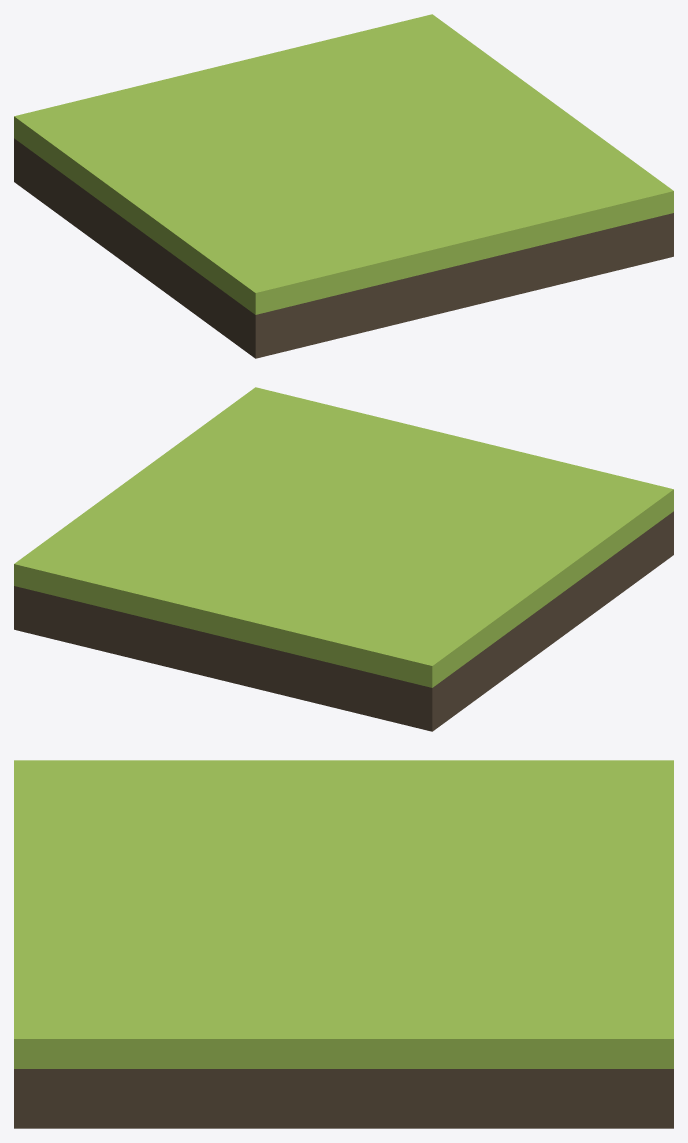
The model's file is SM_Mod_Ground_Meadow.fbx.
3 renders of one model, top to bottom at view 1: azimuth 30°, elevation 25°; view 2: azimuth 150°, elevation 25°; view 3: azimuth 270°, elevation 25°, orthographic. The views are drawn at different scales.
Visible parts, largest first — view 1: SM_Mod_Ground_Meadow; view 2: SM_Mod_Ground_Meadow; view 3: SM_Mod_Ground_Meadow.
Part boxes in pixels (x1=…): SM_Mod_Ground_Meadow: x1=14, y1=14, x2=673, y2=358; SM_Mod_Ground_Meadow: x1=14, y1=387, x2=673, y2=731; SM_Mod_Ground_Meadow: x1=14, y1=760, x2=673, y2=1128.
Bounding box in the file's own units: 2 × 0.3 × 2.
1 material, 1 textured.
